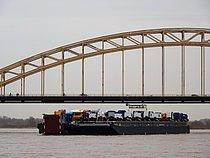Ship: (34, 105, 193, 138)
